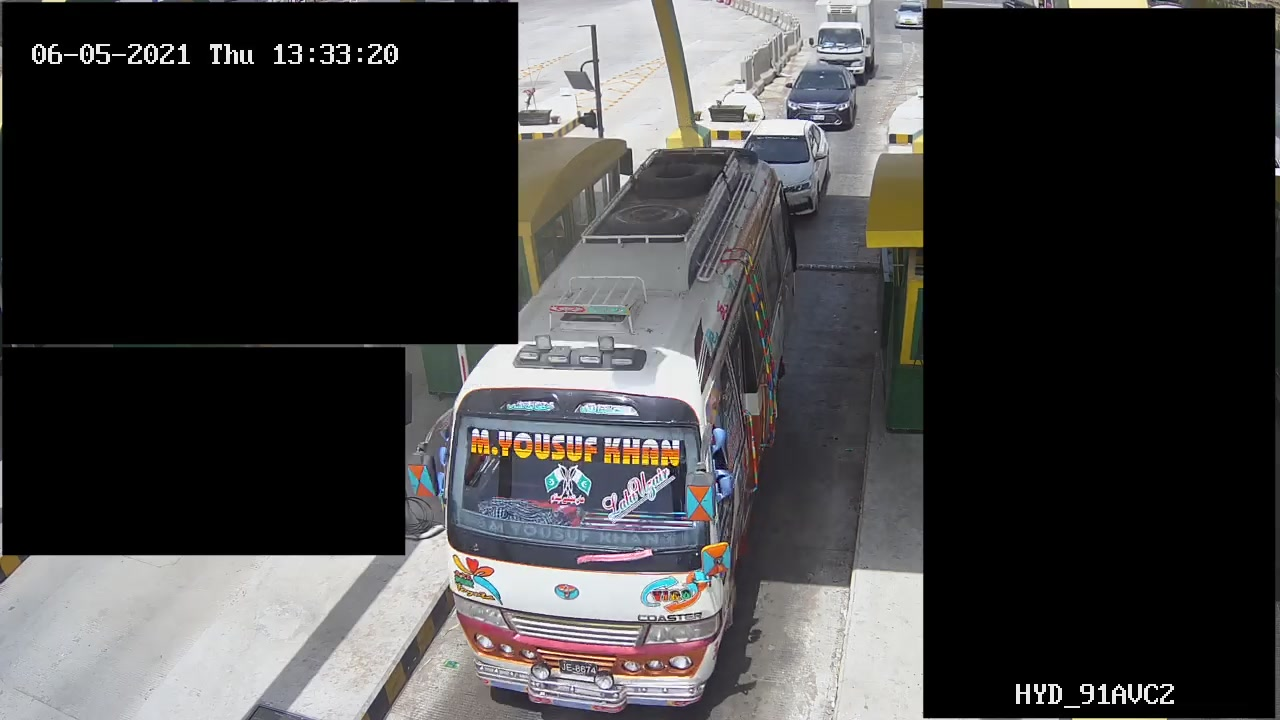F4: (436, 137, 793, 709)
